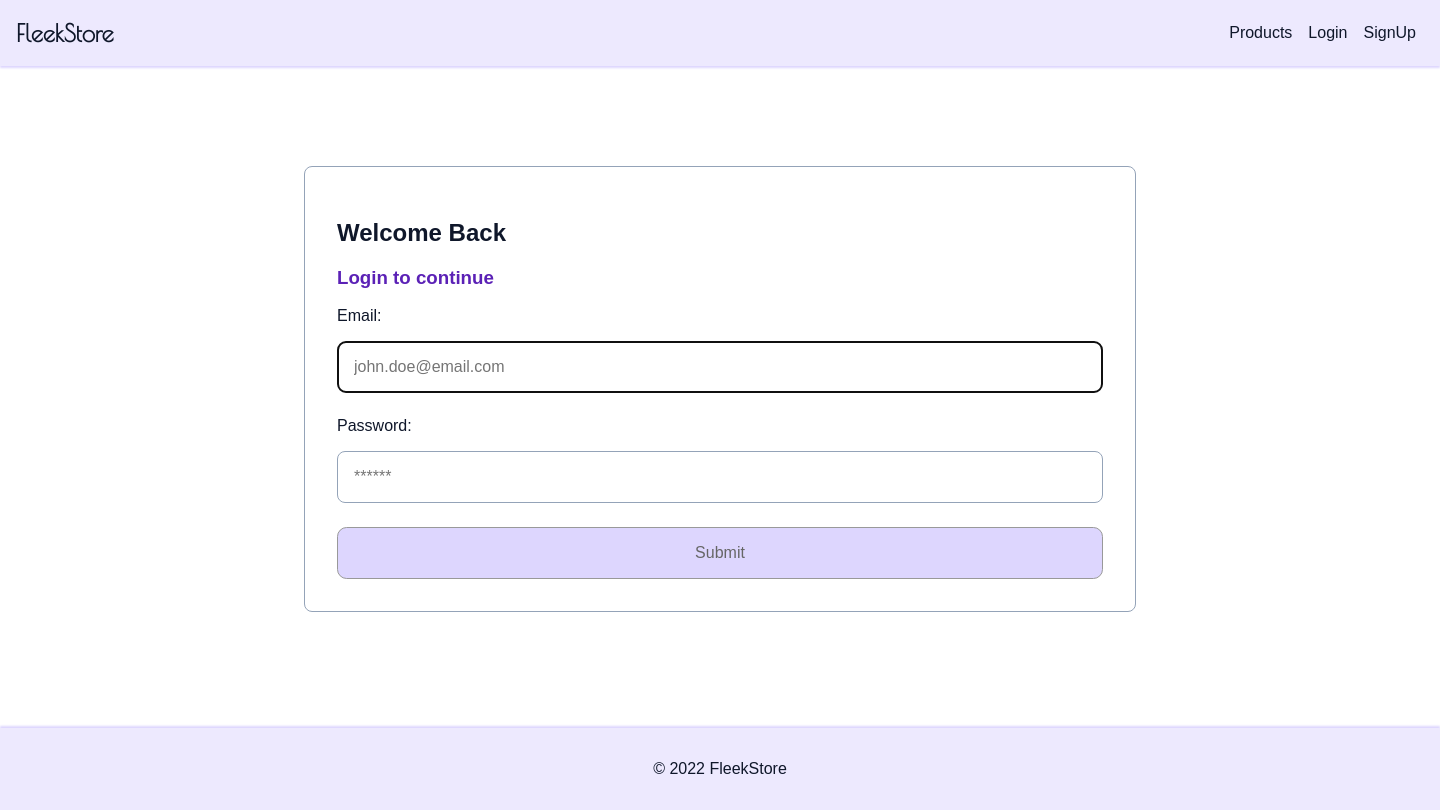
Test: Logged Out User › must render login page on click on login nav-link
Click the link "SignUp" at (1390, 32), box [1364, 24, 1416, 41]
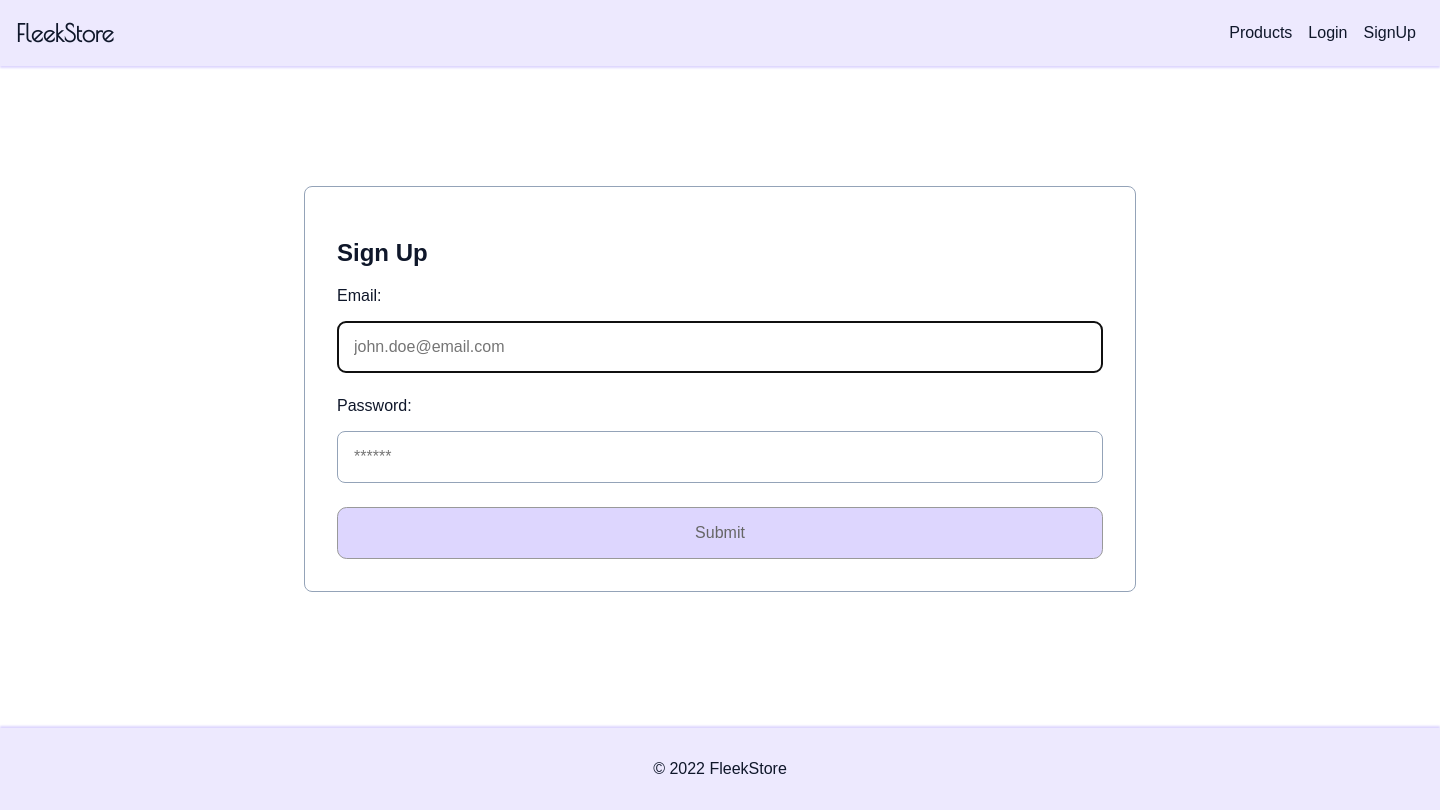
expect the heading "Sign Up" is shown: met, box [337, 239, 428, 266]
